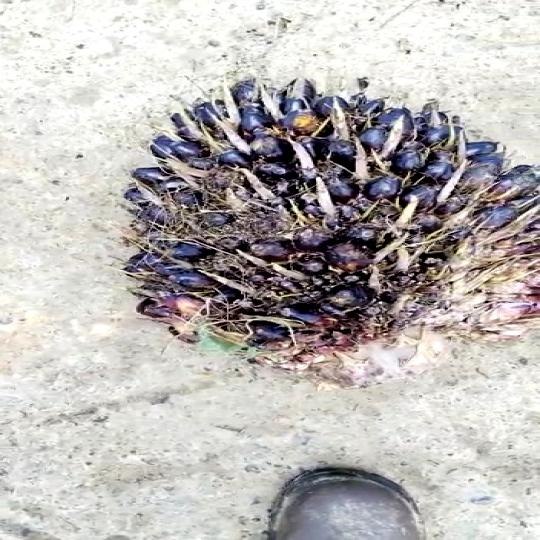mentah: (105, 62, 540, 388)
